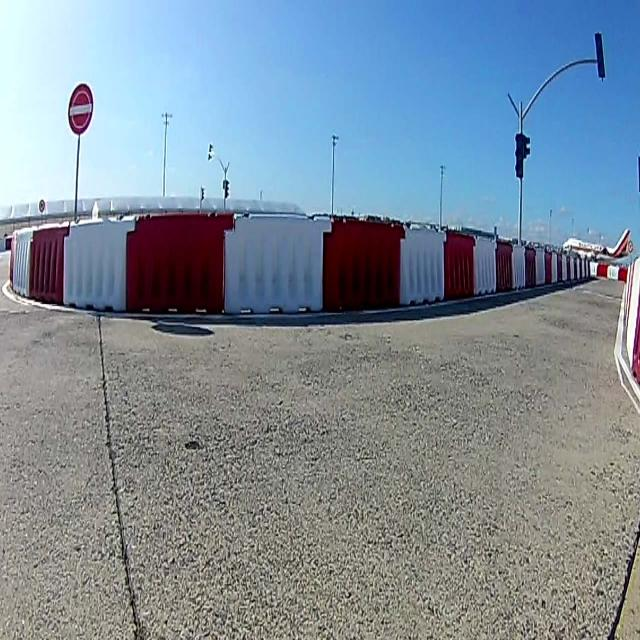girisyok: (68, 84, 92, 132)
